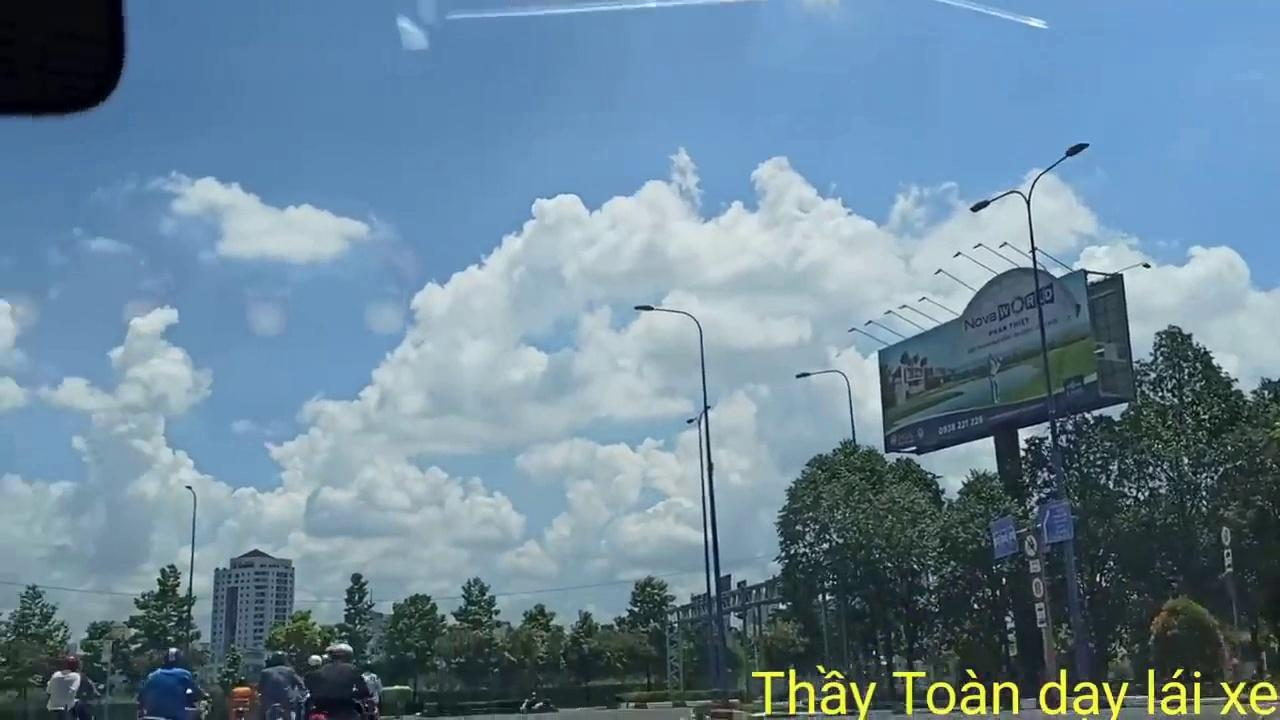Biển phụ: (1032, 601, 1050, 628)
Chỉ hướng đường: (1037, 503, 1074, 544)
Cấm xe máy: (1023, 532, 1039, 558)
Làn đường cho từng xe: (989, 516, 1020, 557)
